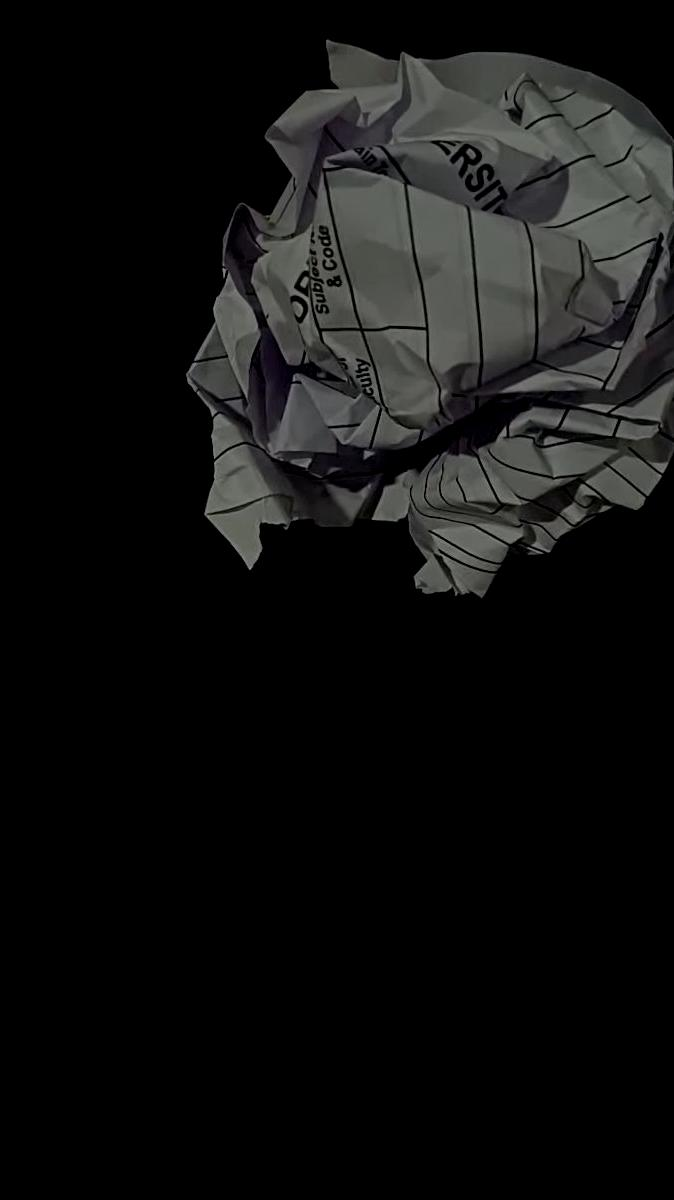PaperBall: (189, 44, 674, 593)
